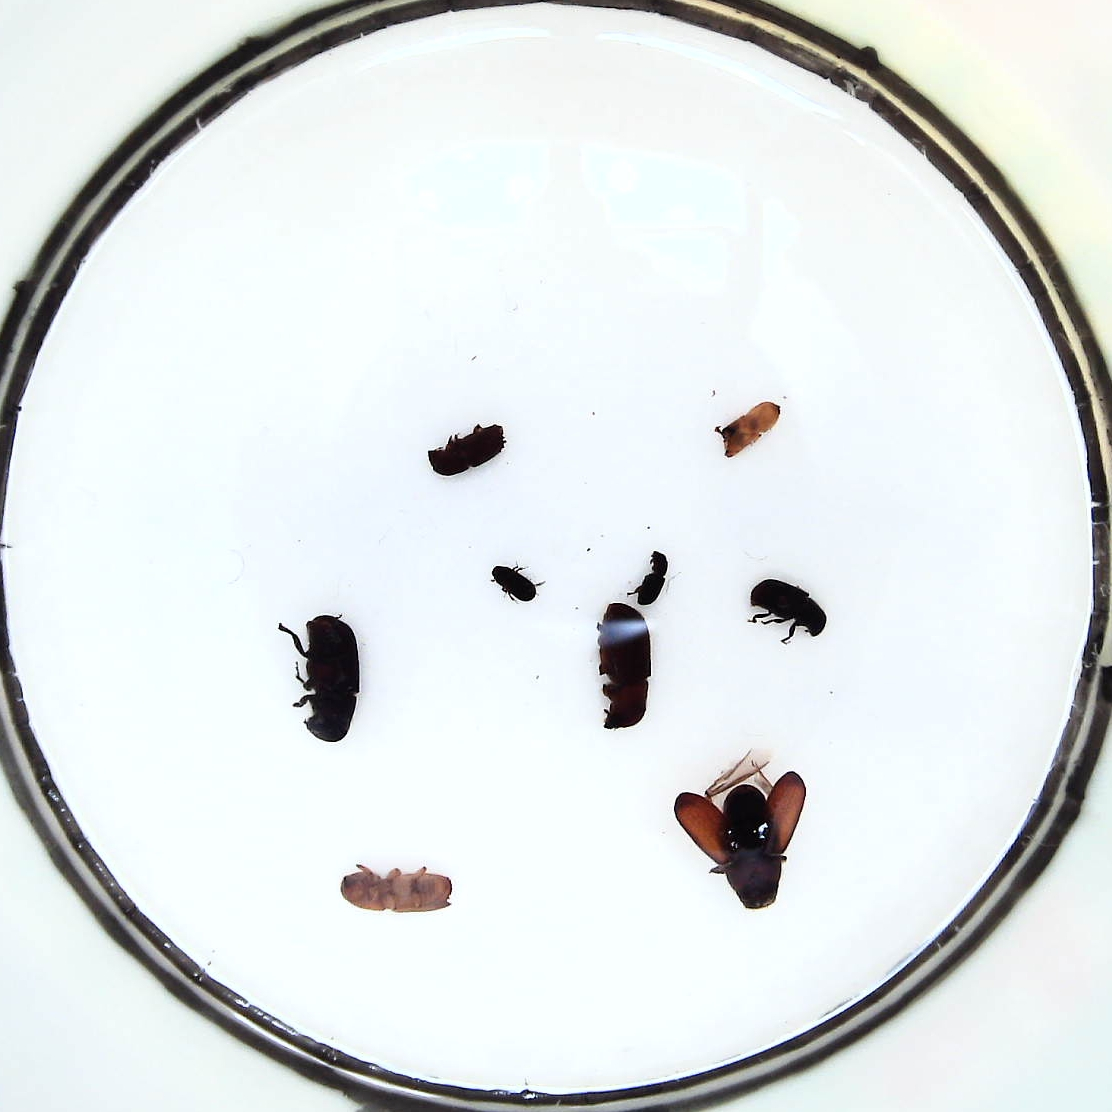Boerner: (342, 867, 453, 913)
Leconte: (675, 771, 805, 910), (303, 615, 362, 743)
acuminatus: (636, 550, 666, 605), (491, 565, 536, 601)
armandi: (750, 580, 826, 635)
coleoptera: (600, 602, 651, 729), (718, 402, 781, 456)
linnaeus: (426, 422, 507, 476)
